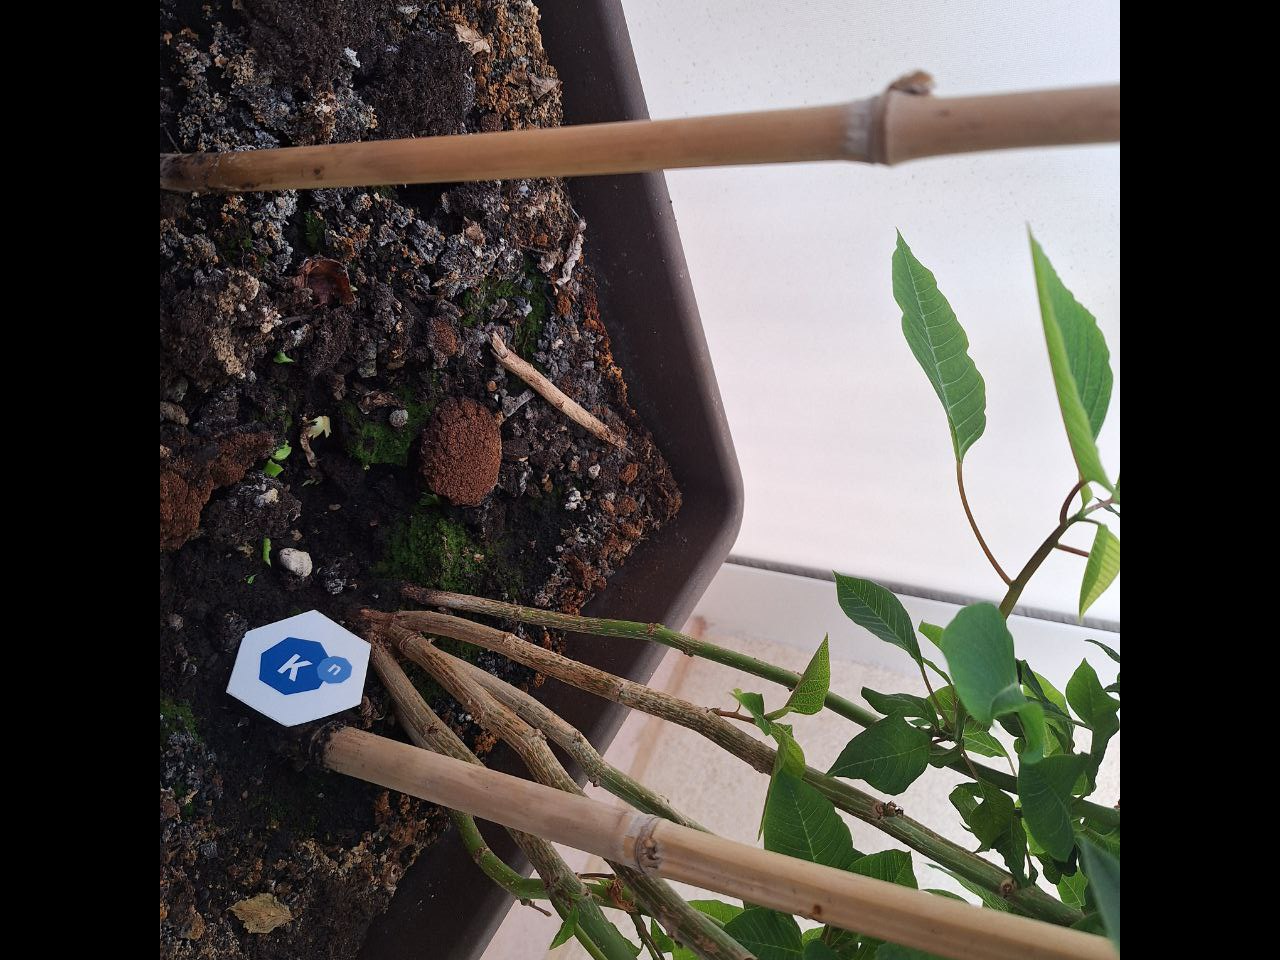knative: (260, 637, 348, 697)
